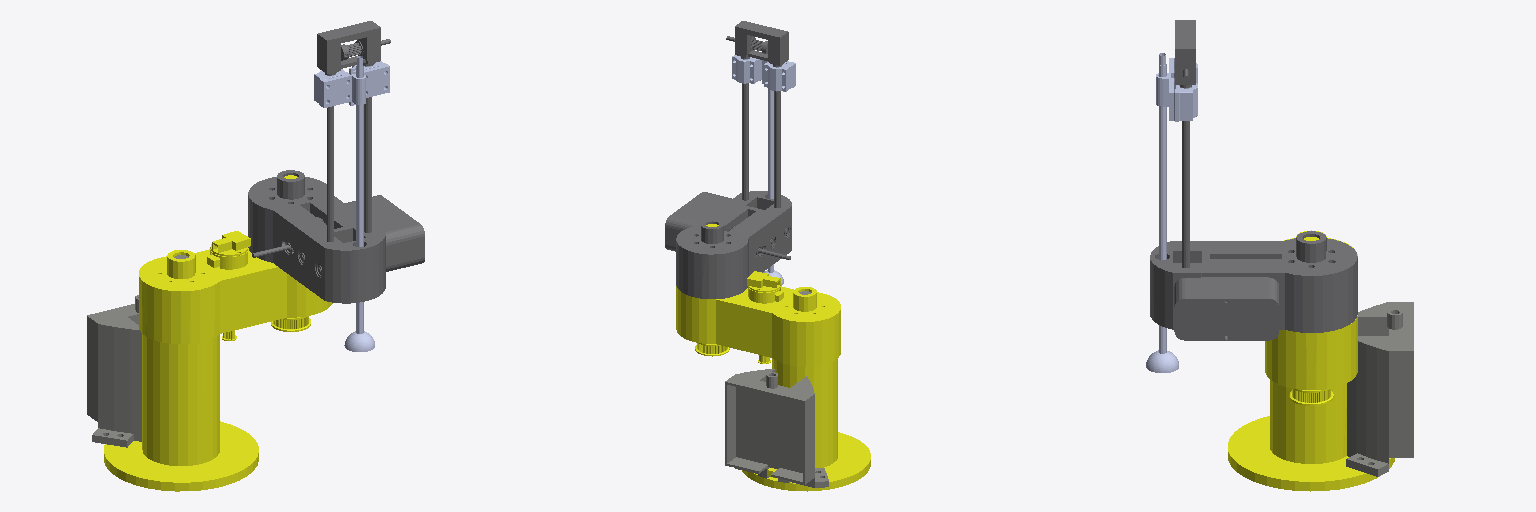
The robot description file, URDF, robot "scara_boceto":
<?xml version="1.0" encoding="utf-8"?>
<!-- This URDF was automatically created by SolidWorks to URDF Exporter! Originally created by Stephen Brawner (brawner@gmail.com) 
     Commit Version: 1.6.0-4-g7f85cfe  Build Version: 1.6.7995.38578
     For more information, please see http://wiki.ros.org/sw_urdf_exporter -->
<robot
  name="scara_boceto">
  <link
    name="base_link">
    <inertial>
      <origin
        xyz="7.3698831396794E-06 0.00505634398271243 0.0515191581411316"
        rpy="0 0 0" />
      <mass
        value="0.369283968725788" />
      <inertia
        ixx="0.00143244737393282"
        ixy="-9.70614366393655E-08"
        ixz="-1.42672533433238E-07"
        iyy="0.00143617210946978"
        iyz="5.47922504699482E-06"
        izz="0.000844588909415063" />
    </inertial>
    <visual>
      <origin
        xyz="0 0 0"
        rpy="0 0 0" />
      <geometry>
        <mesh
          filename="package://scara_boceto/meshes/base_link.STL" />
      </geometry>
      <material
        name="">
        <color
          rgba="0.95 0.96 0.15 1" />
      </material>
    </visual>
    <collision>
      <origin
        xyz="0 0 0"
        rpy="0 0 0" />
      <geometry>
        <mesh
          filename="package://scara_boceto/meshes/base_link.STL" />
      </geometry>
    </collision>
  </link>
  <link
    name="rot1">
    <inertial>
      <origin
        xyz="0.0652002981897172 2.15184196864643E-06 0.0302808417973492"
        rpy="0 0 0" />
      <mass
        value="0.960224575652195" />
      <inertia
        ixx="0.000771578203436998"
        ixy="-1.1237245765865E-08"
        ixz="8.88110971334996E-05"
        iyy="0.00351096266258402"
        iyz="1.03264234045021E-08"
        izz="0.00366458339979814" />
    </inertial>
    <visual>
      <origin
        xyz="0 0 0"
        rpy="0 0 0" />
      <geometry>
        <mesh
          filename="package://scara_boceto/meshes/rot1.STL" />
      </geometry>
      <material
        name="">
        <color
          rgba="0.95 0.96 0.15 1" />
      </material>
    </visual>
    <collision>
      <origin
        xyz="0 0 0"
        rpy="0 0 0" />
      <geometry>
        <mesh
          filename="package://scara_boceto/meshes/rot1.STL" />
      </geometry>
    </collision>
  </link>
  <joint
    name="rot1_joint"
    type="continuous">
    <origin
      xyz="0 0 0.149999999999999"
      rpy="0 0 0" />
    <parent
      link="base_link" />
    <child
      link="rot1" />
    <axis
      xyz="0 0 1" />
    <limit
      effort="1"
      velocity="0.2" />
    <dynamics
      damping="0.1"
      friction="0.1" />
  </joint>
  <link
    name="rot2">
    <inertial>
      <origin
        xyz="0.0545562991886573 0.00420940477256759 0.0442384523201031"
        rpy="0 0 0" />
      <mass
        value="0.827501167062165" />
      <inertia
        ixx="0.000723895006460007"
        ixy="-2.0619565009593E-06"
        ixz="2.00409100148053E-05"
        iyy="0.00244181599386376"
        iyz="-6.47140205432564E-08"
        izz="0.00249469873379645" />
    </inertial>
    <visual>
      <origin
        xyz="0 0 0"
        rpy="0 0 0" />
      <geometry>
        <mesh
          filename="package://scara_boceto/meshes/rot2.STL" />
      </geometry>
      <material
        name="">
        <color
          rgba="0.50 0.50 0.51 1" />
      </material>
    </visual>
    <collision>
      <origin
        xyz="0 0 0"
        rpy="0 0 0" />
      <geometry>
        <mesh
          filename="package://scara_boceto/meshes/rot2.STL" />
      </geometry>
    </collision>
  </link>
  <joint
    name="rot2_joint"
    type="continuous">
    <origin
      xyz="0.130000000000002 0 0.0600000000000009"
      rpy="0 0 -1.5707963267949" />
    <parent
      link="rot1" />
    <child
      link="rot2" />
    <axis
      xyz="0 0 1" />
    <limit
      effort="1"
      velocity="0.2" />
    <dynamics
      damping="0.1"
      friction="0.1" />
  </joint>
  <link
    name="prisma">
    <inertial>
      <origin
        xyz="-0.00968954429107238 -8.70297020284794E-05 0.00763925129938392"
        rpy="0 0 0" />
      <mass
        value="0.0482530059600755" />
      <inertia
        ixx="3.78986465008096E-05"
        ixy="1.55038979176541E-10"
        ixz="-4.10087887988017E-11"
        iyy="3.08945956859896E-05"
        iyz="3.63265544654102E-20"
        izz="9.67997761427531E-06" />
    </inertial>
    <visual>
      <origin
        xyz="0 0 0"
        rpy="0 0 0" />
      <geometry>
        <mesh
          filename="package://scara_boceto/meshes/prisma.STL" />
      </geometry>
      <material
        name="">
        <color
          rgba="0.792156862745098 0.819607843137255 0.933333333333333 1" />
      </material>
    </visual>
    <collision>
      <origin
        xyz="0 0 0"
        rpy="0 0 0" />
      <geometry>
        <mesh
          filename="package://scara_boceto/meshes/prisma.STL" />
      </geometry>
    </collision>
  </link>
  <joint
    name="prisma_joint"
    type="prismatic">
    <origin
      xyz="0.13571 0 0.23444"
      rpy="3.1416 0 0" />
    <parent
      link="rot2" />
    <child
      link="prisma" />
    <axis
      xyz="0 0 -1" />
    <limit
      lower="-0.1545"
      upper="0"
      effort="1"
      velocity="0.15" />
    <dynamics
      damping="0.1"
      friction="0.1" />
  </joint>
  <link
    name="efector">
    <inertial>
      <origin
        xyz="2.55351295663786E-15 9.46465128492946E-15 -0.00844361008372019"
        rpy="0 0 0" />
      <mass
        value="0.00140887146453861" />
      <inertia
        ixx="1.39235410513575E-07"
        ixy="4.94416790599824E-24"
        ixz="1.00449775275084E-23"
        iyy="1.39235410513575E-07"
        iyz="-1.57174263494576E-22"
        izz="2.28692890034035E-07" />
    </inertial>
    <visual>
      <origin
        xyz="0 0 0"
        rpy="0 0 0" />
      <geometry>
        <mesh
          filename="package://scara_boceto/meshes/efector.STL" />
      </geometry>
      <material
        name="">
        <color
          rgba="0.792156862745098 0.819607843137255 0.933333333333333 1" />
      </material>
    </visual>
    <collision>
      <origin
        xyz="0 0 0"
        rpy="0 0 0" />
      <geometry>
        <mesh
          filename="package://scara_boceto/meshes/efector.STL" />
      </geometry>
    </collision>
  </link>
  <joint
    name="efector_joint"
    type="fixed">
    <origin
      xyz="0.006 0 0.29082"
      rpy="0 0 0" />
    <parent
      link="prisma" />
    <child
      link="efector" />
    <axis
      xyz="0 0 0" />
    <limit
      lower="-0.2656"
      effort="1"
      velocity="0.15" />
    <dynamics
      damping="0.1"
      friction="0.1" />
  </joint>
  <link
    name="caja">
    <inertial>
      <origin
        xyz="0.000235440571373854 0.0545520890162251 0.0730185488077406"
        rpy="0 0 0" />
      <mass
        value="0.403993820975926" />
      <inertia
        ixx="0.00054672315998004"
        ixy="6.01122297772826E-07"
        ixz="-2.15833642341804E-06"
        iyy="0.000841358409981584"
        iyz="-2.83074117806141E-05"
        izz="0.000414701885458381" />
    </inertial>
    <visual>
      <origin
        xyz="0 0 0"
        rpy="0 0 0" />
      <geometry>
        <mesh
          filename="package://scara_boceto/meshes/caja.STL" />
      </geometry>
      <material
        name="">
        <color
          rgba="0.58 0.58 0.57 1" />
      </material>
    </visual>
    <collision>
      <origin
        xyz="0 0 0"
        rpy="0 0 0" />
      <geometry>
        <mesh
          filename="package://scara_boceto/meshes/caja.STL" />
      </geometry>
    </collision>
  </link>
  <joint
    name="caja_joint"
    type="fixed">
    <origin
      xyz="0 0 0"
      rpy="0 0 0" />
    <parent
      link="base_link" />
    <child
      link="caja" />
    <axis
      xyz="0 0 0" />
  </joint>
</robot>

--- What the picture shows (computed from the rendered views, not written in the file) ---
Views: 3 orthographic renders of the robot side by side, from view 1: azimuth 30°, elevation 25°; view 2: azimuth 150°, elevation 25°; view 3: azimuth 270°, elevation 25°.
Robot: scara_boceto — 6 links, 5 joints (2 continuous, 1 prismatic, 2 fixed); root link base_link; default pose: all joints at 0.
Visible links, largest first — view 1: rot2, base_link, rot1, caja, prisma; view 2: rot2, rot1, caja, base_link, prisma; view 3: rot2, caja, base_link, rot1, prisma, efector.
Link boxes in pixels (x1,y1,x2,y2): rot2: [248, 21, 424, 303]; base_link: [104, 334, 258, 491]; rot1: [139, 175, 332, 343]; caja: [87, 255, 188, 447]; prisma: [314, 56, 389, 333]; rot2: [665, 21, 791, 298]; rot1: [676, 224, 840, 366]; caja: [725, 291, 828, 487]; base_link: [742, 358, 870, 491]; prisma: [732, 55, 795, 272]; rot2: [1150, 20, 1357, 340]; caja: [1346, 302, 1413, 476]; base_link: [1228, 380, 1394, 491]; rot1: [1265, 230, 1357, 405]; prisma: [1156, 53, 1197, 353]; efector: [1146, 350, 1178, 372].
Size in the robot's own frame: 0.2938 by 0.2552 by 0.503 metres.
Meshes: 6 distinct files referenced, 6 mesh visuals loaded (6 binary STL).
